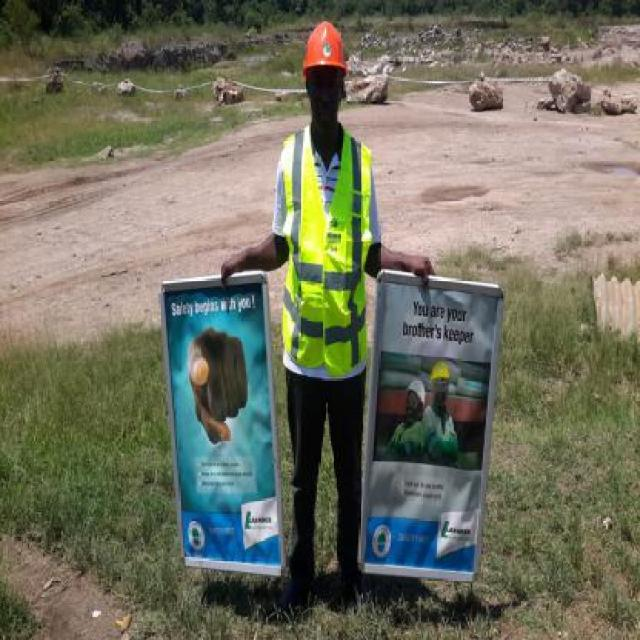Person: (267, 27, 378, 579), (420, 358, 463, 464), (377, 377, 425, 465)
